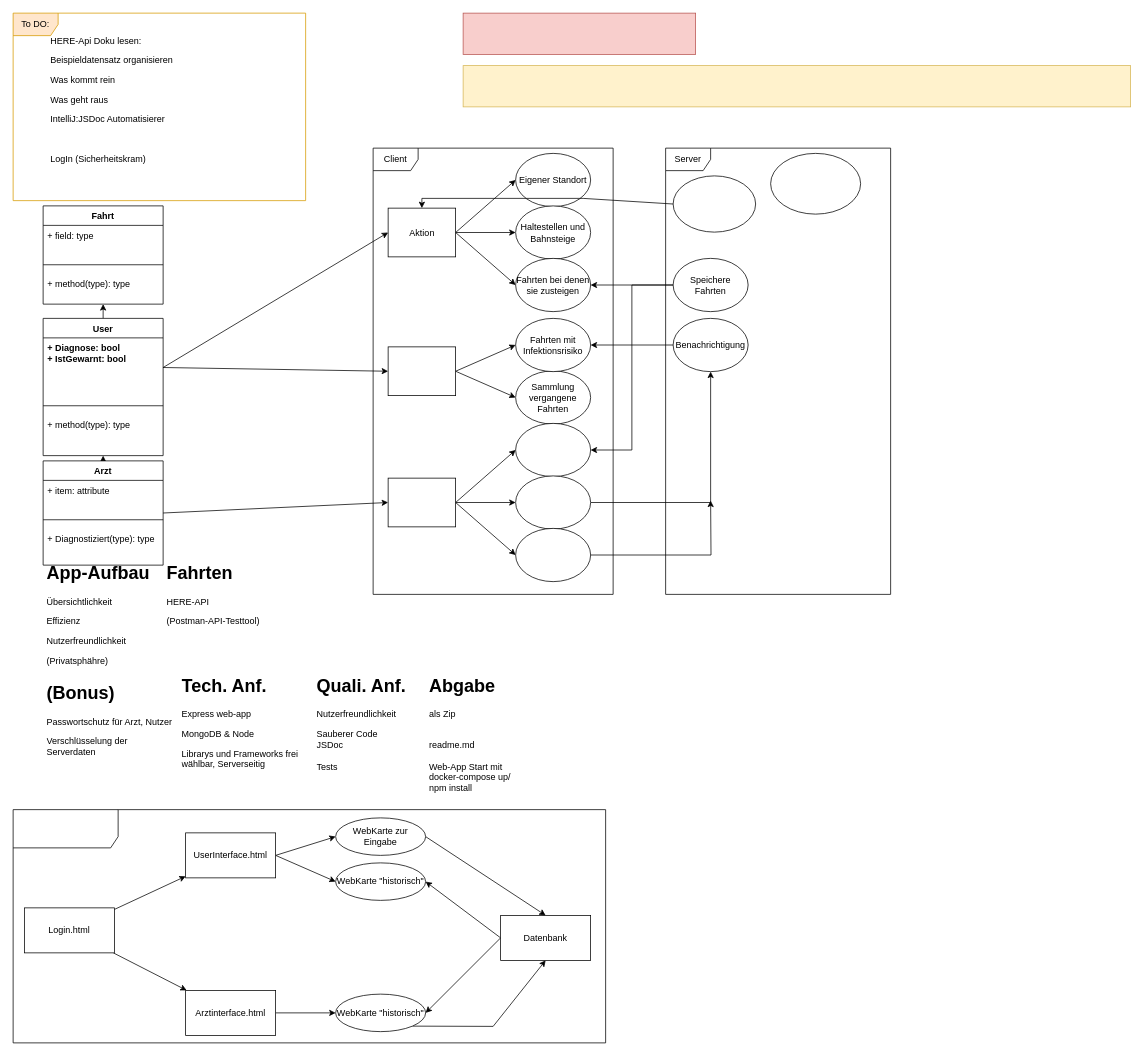
The diagram is 1144 pixels wide and 1056 high, and some of its shapes have lost their labels. Here are the shapes that lost their labels. From the top down, the centre of each, then its label:
point (579, 33): ABGABE 21.09.20
point (796, 86): "GeoSoft I Projekt"
point (714, 203): Nutzer Verwaltung
point (815, 183): NutzerOberfläche und Librarys
point (421, 371): Information
point (553, 450): Alle gespeicherten Fahrten lesen
point (421, 502): Markierung
point (553, 502): ... Fahrten nach Zeitraum & User-ID
point (553, 555): ... einzelne Fahrten Manuell
point (309, 926): grober Aufbau der App
